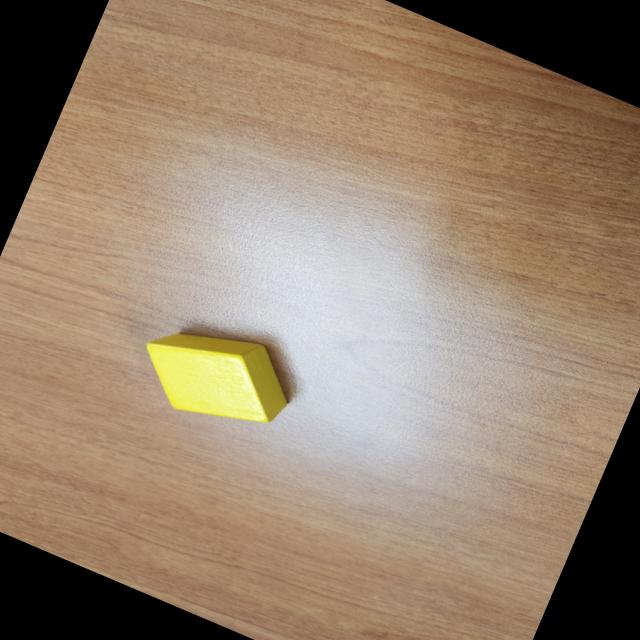yellow: (126, 300, 306, 449)
